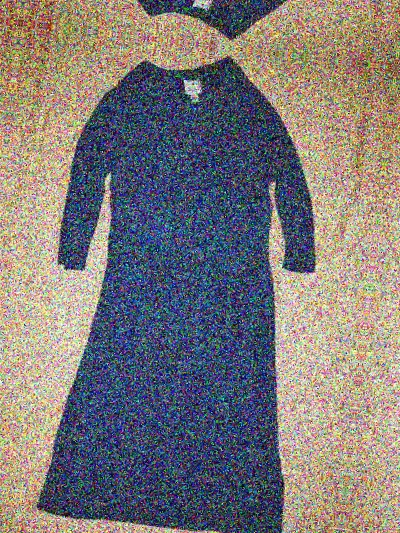Dress: (10, 36, 363, 533), (70, 0, 400, 56), (370, 80, 400, 533), (0, 0, 30, 9)
